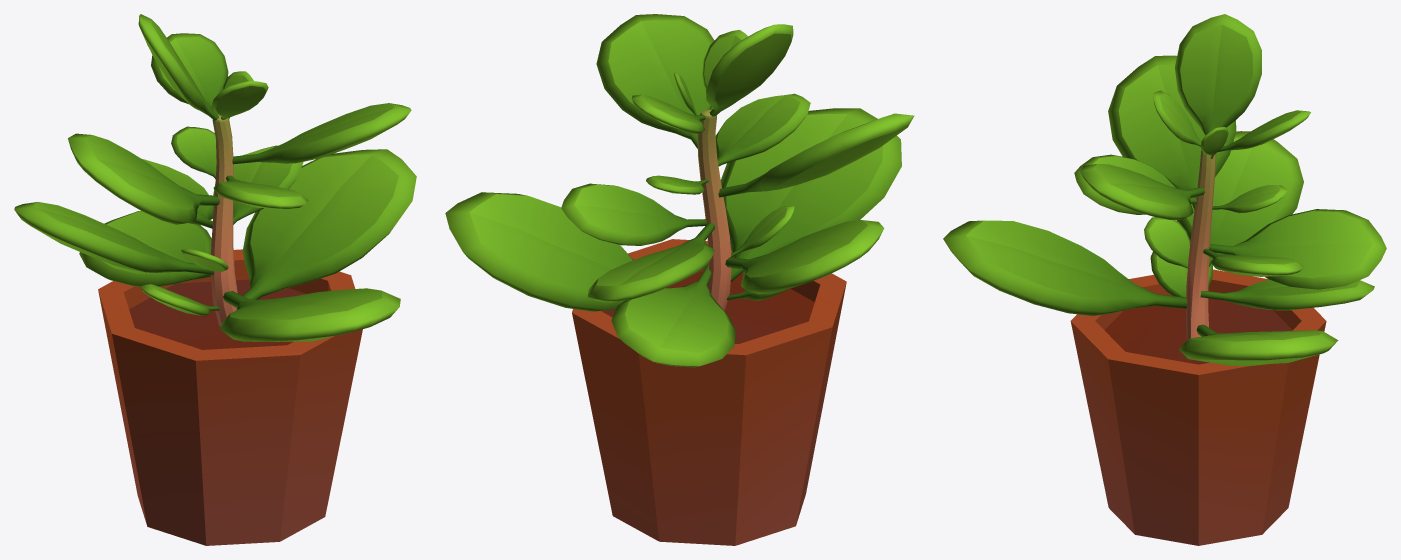
File: Plant_01.fbx
3 renders of one model, left to right at view 1: azimuth 30°, elevation 25°; view 2: azimuth 150°, elevation 25°; view 3: azimuth 270°, elevation 25°, orthographic. The views are drawn at different scales.
Visible parts, largest first — view 1: Plant_01; view 2: Plant_01; view 3: Plant_01.
Boxes of the visible parts, box(x1,y1,x2,y2) form: Plant_01: box(14, 14, 416, 545); Plant_01: box(445, 14, 914, 545); Plant_01: box(943, 14, 1386, 545).
Bounding box in the file's own units: 55.93 × 67.76 × 59.36.
